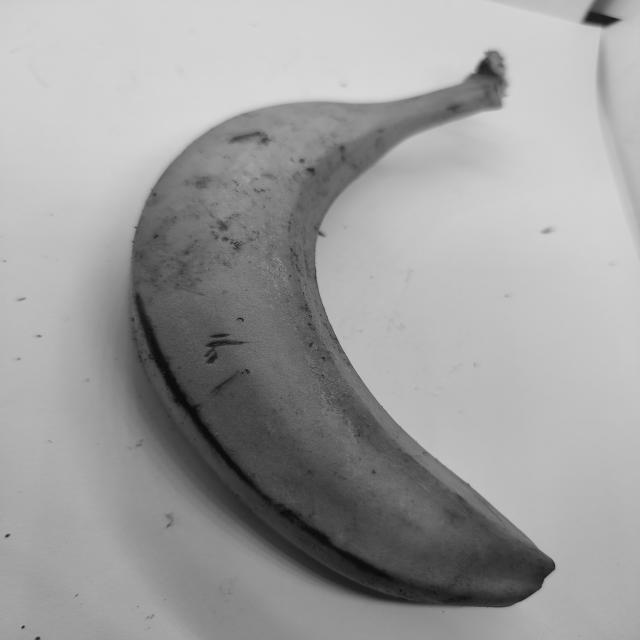Raw: (107, 37, 598, 609)
